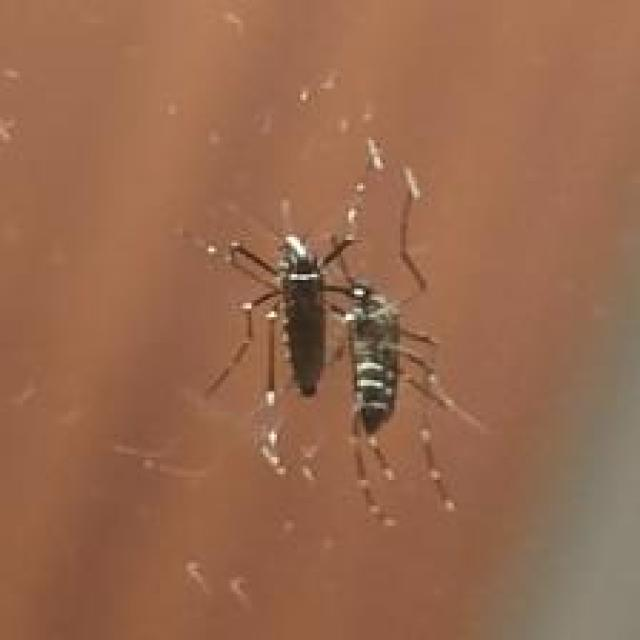Aedes albopictus: (177, 136, 489, 527)
